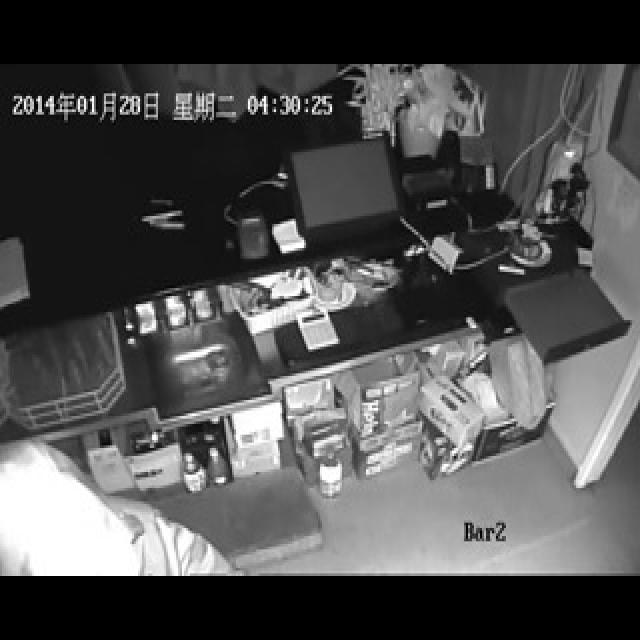thief: (0, 445, 154, 571)
